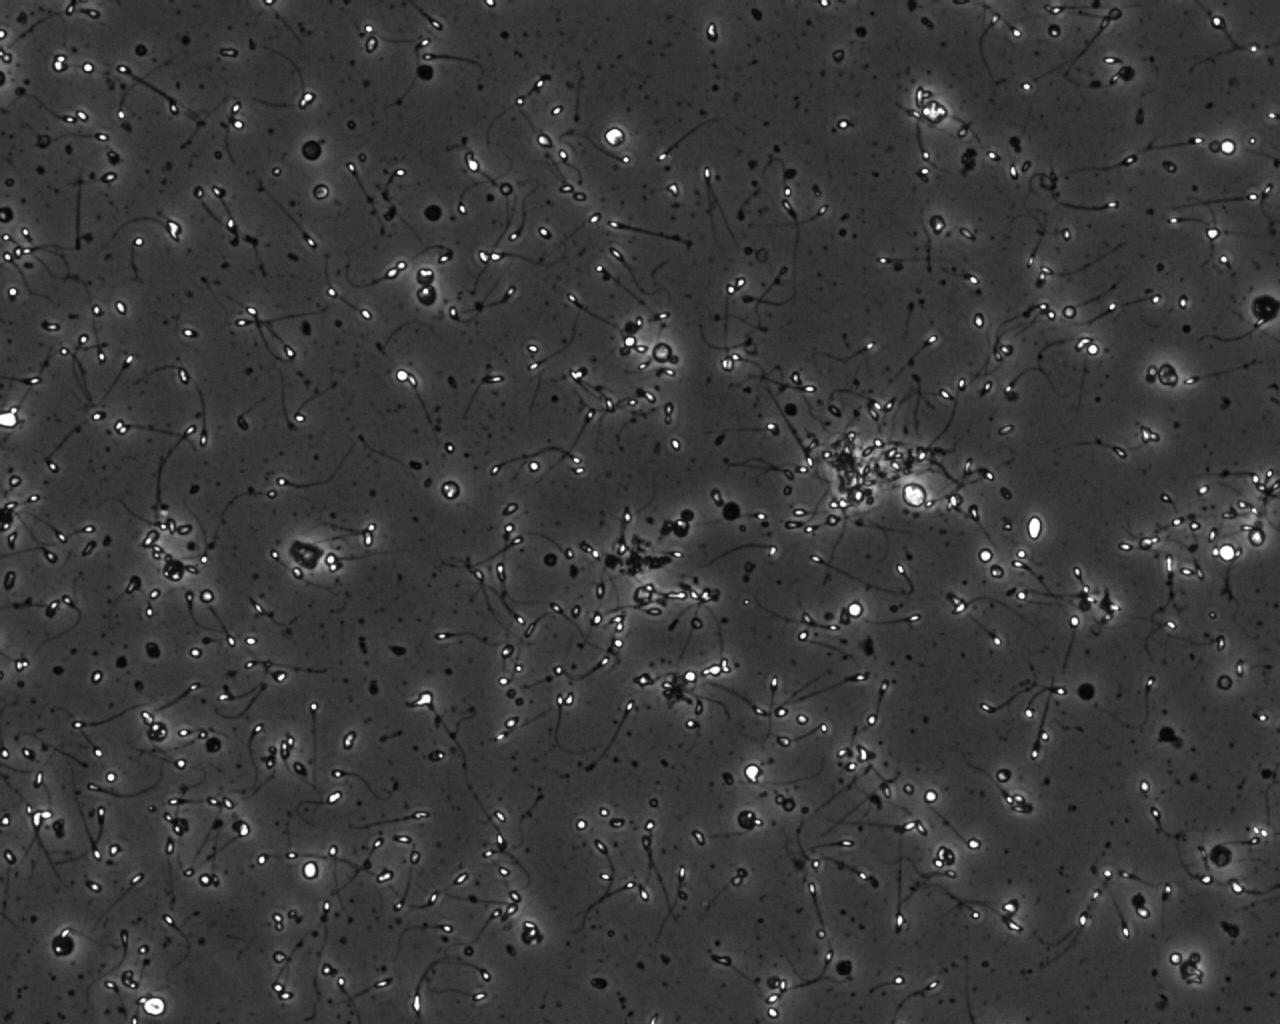cell: (284, 537, 328, 575), (1246, 289, 1280, 327), (917, 96, 952, 129), (898, 479, 930, 512), (47, 930, 78, 960), (411, 281, 441, 310), (138, 993, 170, 1020), (1153, 360, 1182, 390), (1207, 841, 1235, 871), (297, 136, 326, 164), (734, 805, 761, 835), (600, 124, 629, 152), (1023, 512, 1046, 544), (648, 340, 676, 366), (437, 478, 464, 504), (1243, 523, 1270, 550), (842, 597, 868, 623), (412, 264, 438, 289), (1215, 135, 1240, 160), (739, 760, 765, 784), (298, 857, 322, 883), (1213, 670, 1237, 695)
